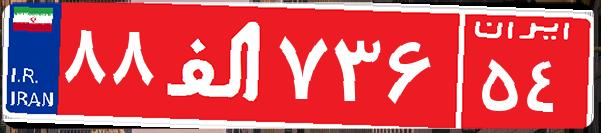3: (330, 28, 385, 110)
4: (525, 38, 570, 115)
5: (475, 38, 525, 113)
6: (385, 28, 445, 110)
7: (273, 28, 330, 110)
8: (57, 26, 110, 107), (110, 28, 158, 105)
الف: (158, 15, 273, 115)
